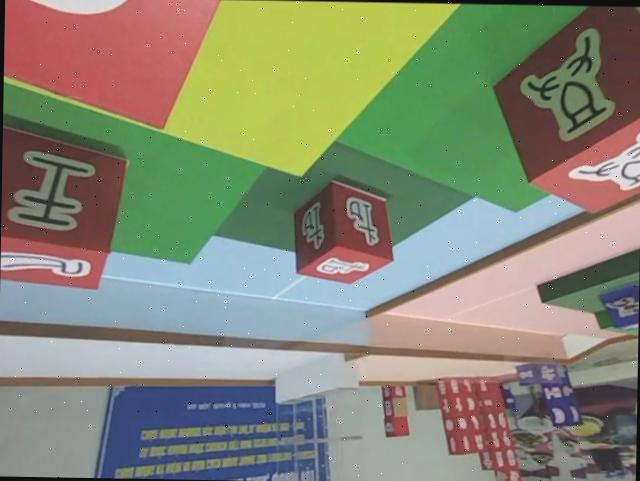R2 Fake: (0, 123, 129, 293)
R2 Real: (486, 3, 640, 219), (290, 177, 397, 288)
